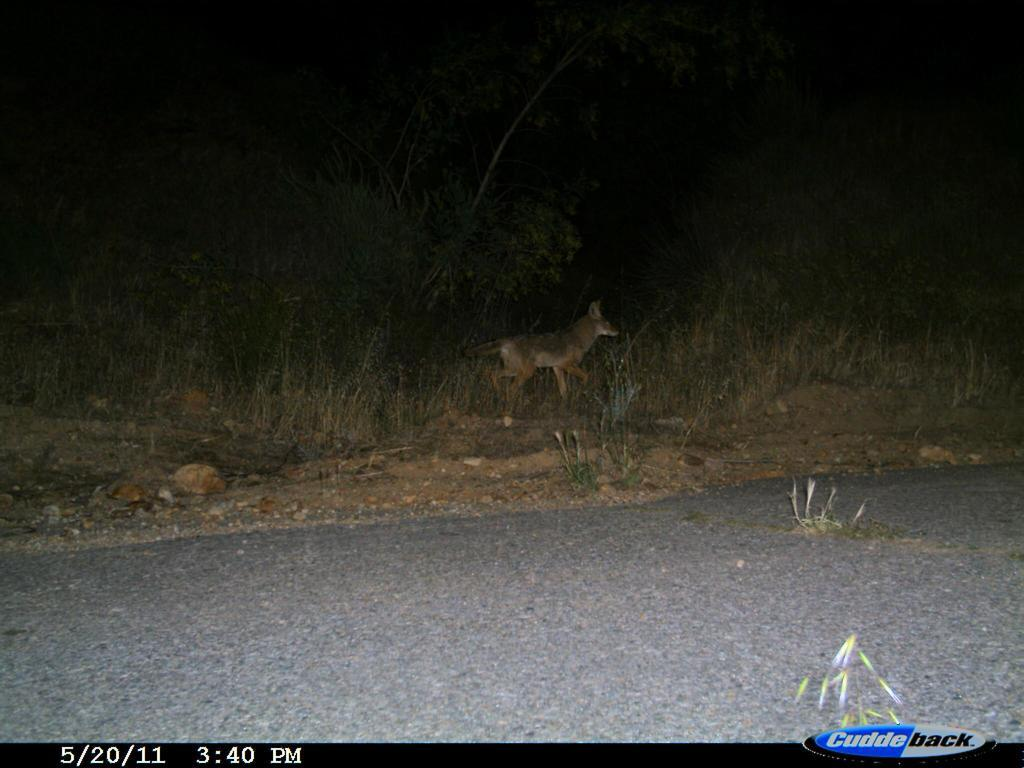coyote: (450, 294, 638, 412)
